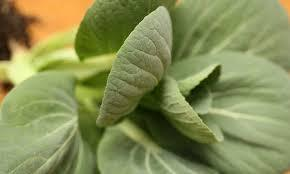Healthy-Pechay: (33, 0, 290, 174)
